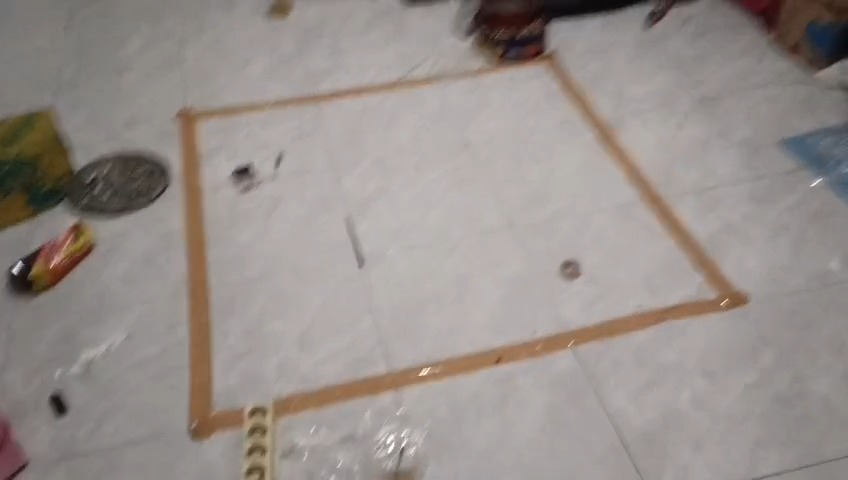floor marking: (177, 54, 748, 439)
